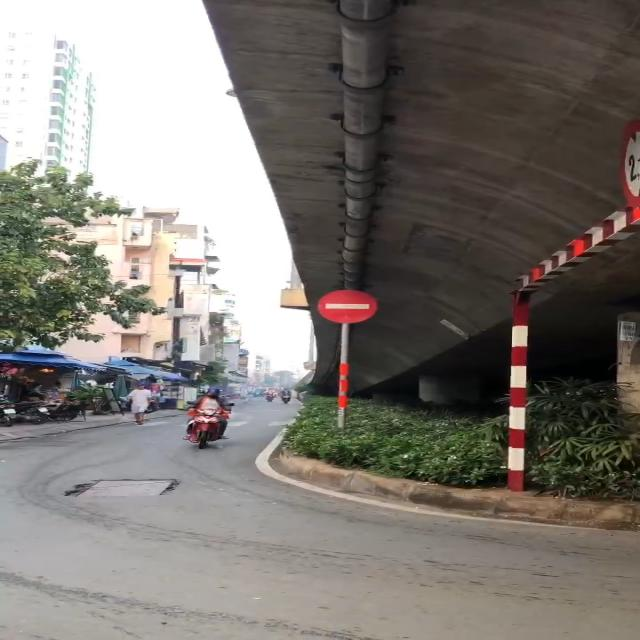Bien bao cam di nguoc chieu: (312, 284, 379, 324)
